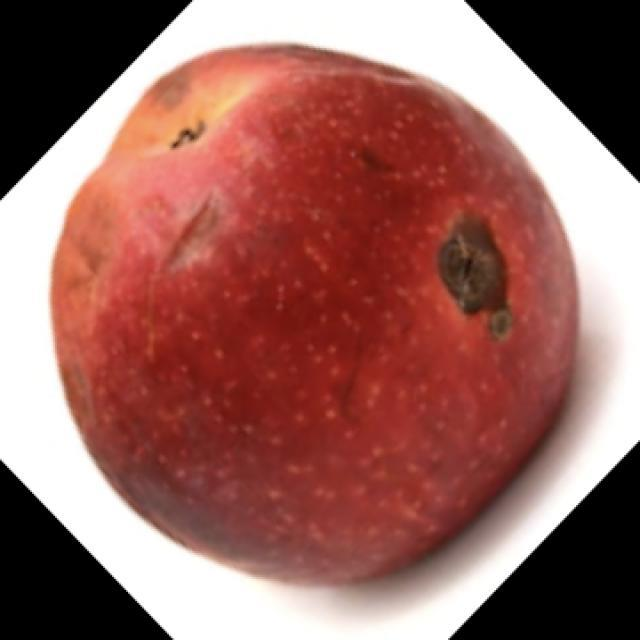Rotten: (68, 42, 597, 595)
